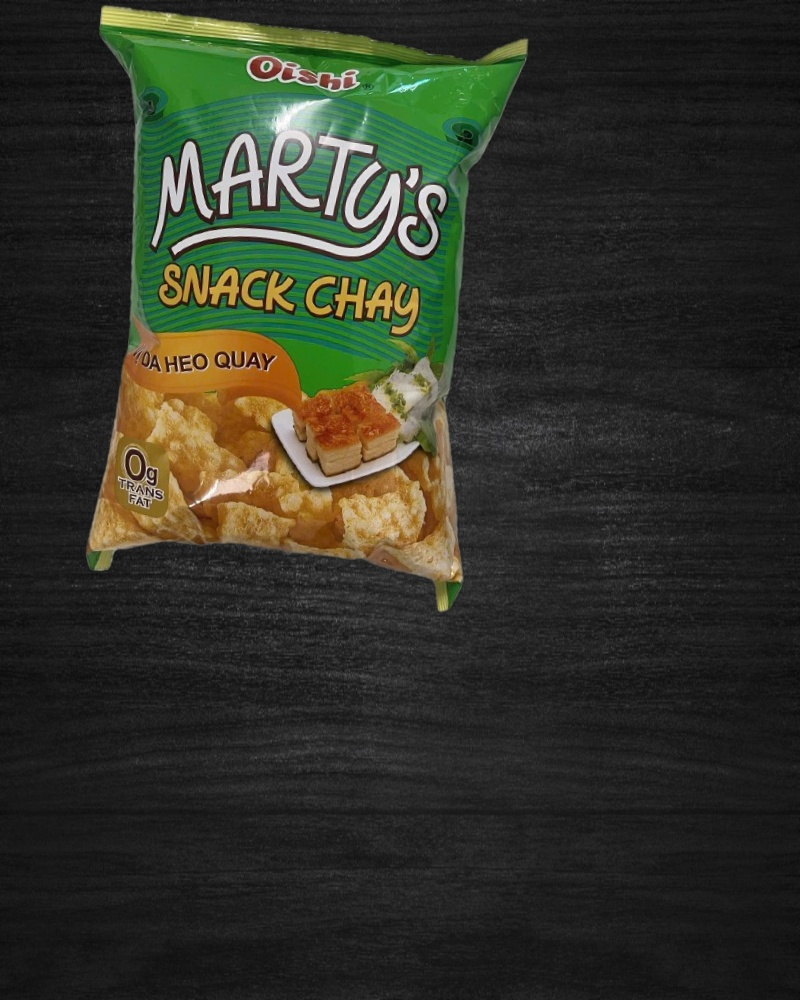Snack chay: (52, 1, 530, 617)
